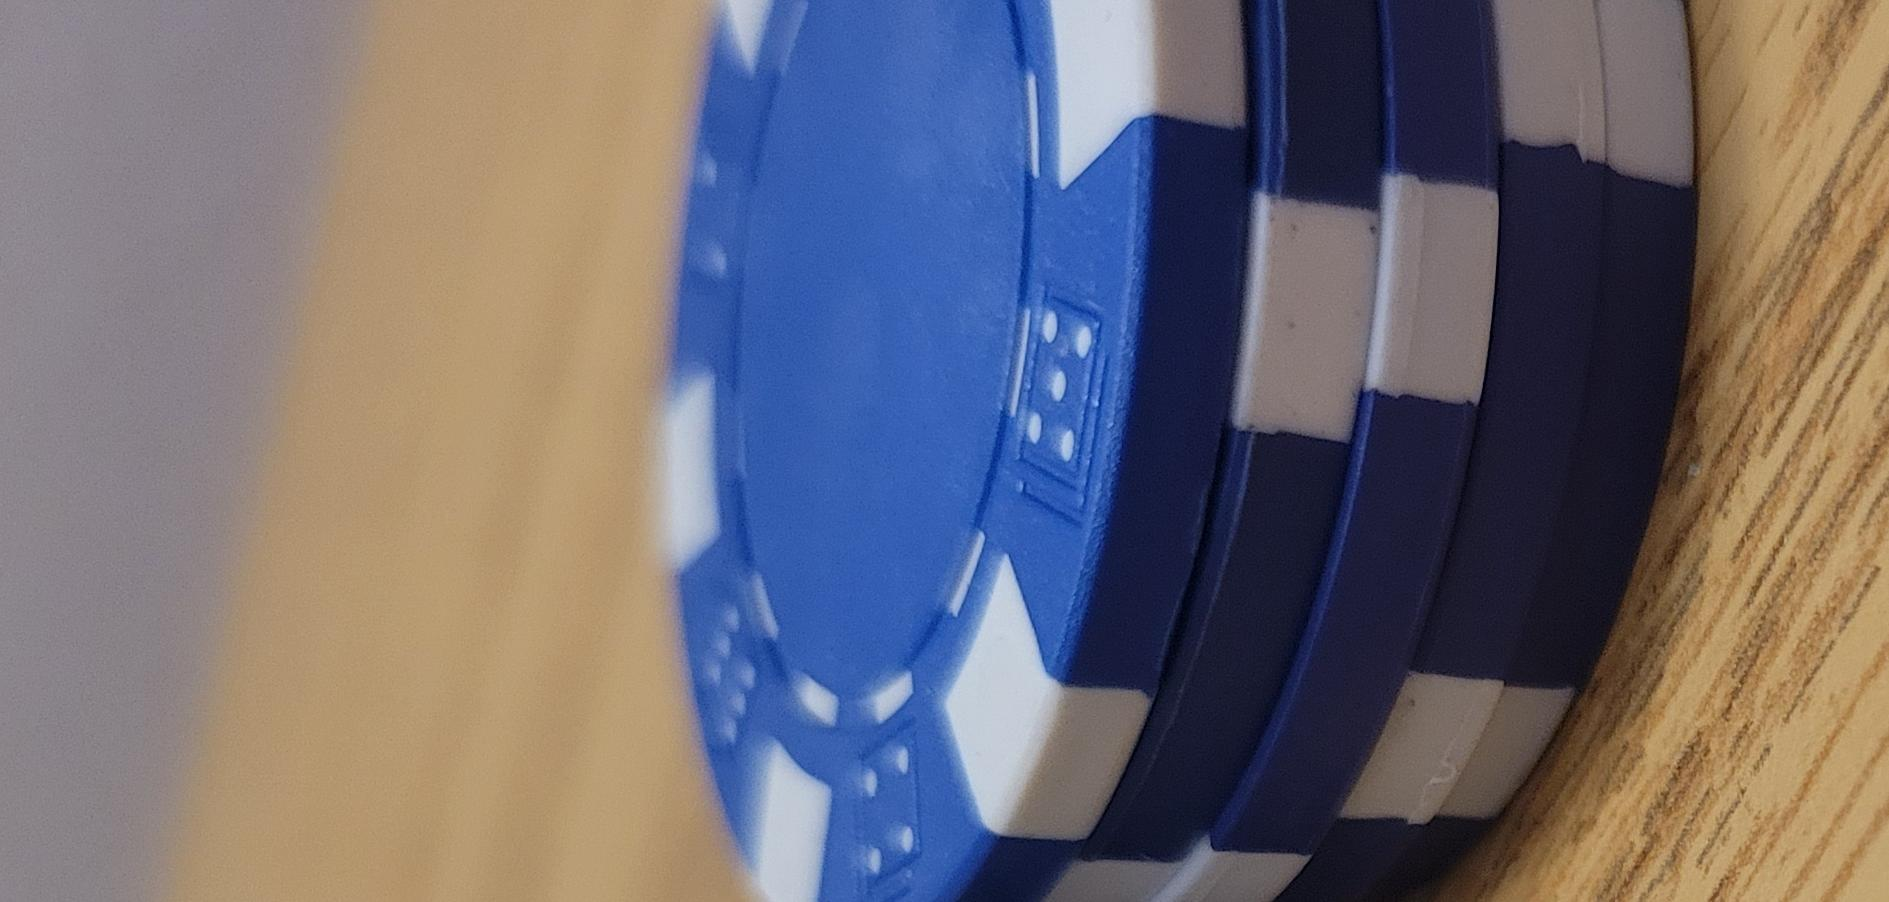Chip: (1, 170, 1375, 902)
